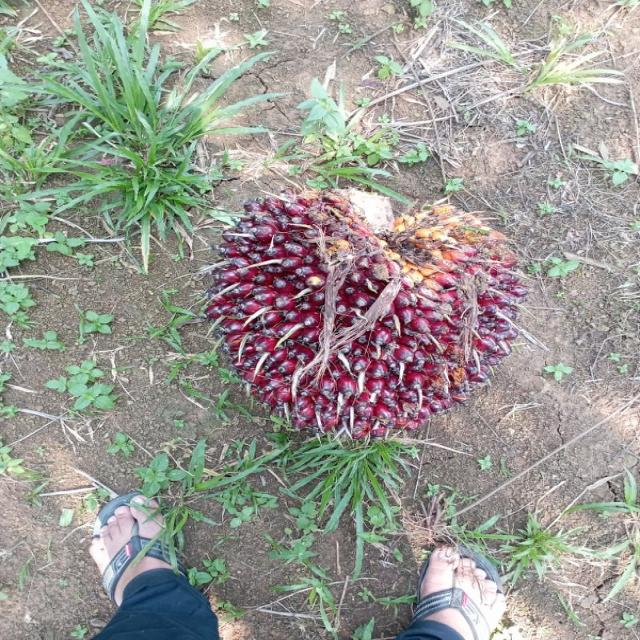fraksi 1: (162, 132, 544, 451)
